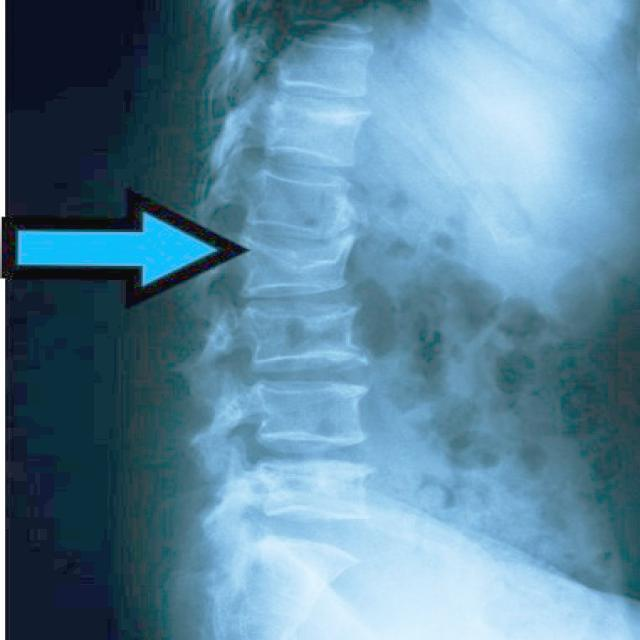Compression-Crush Fracutre: (228, 233, 355, 288)
